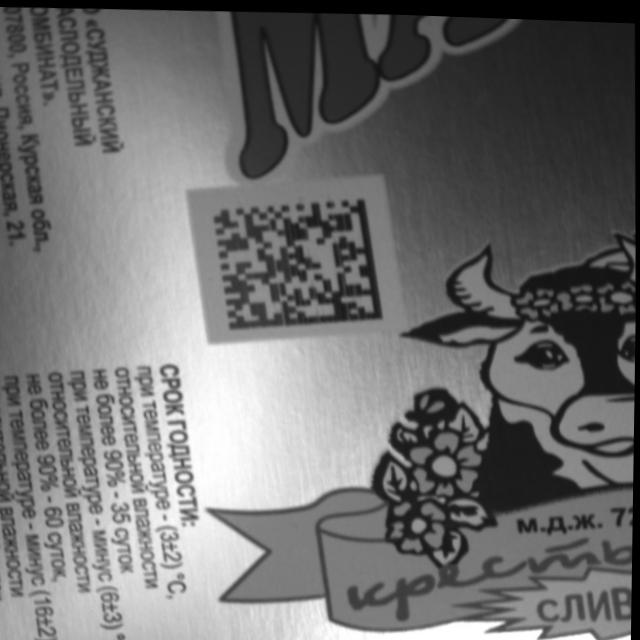datamatrix: (212, 190, 387, 333)
